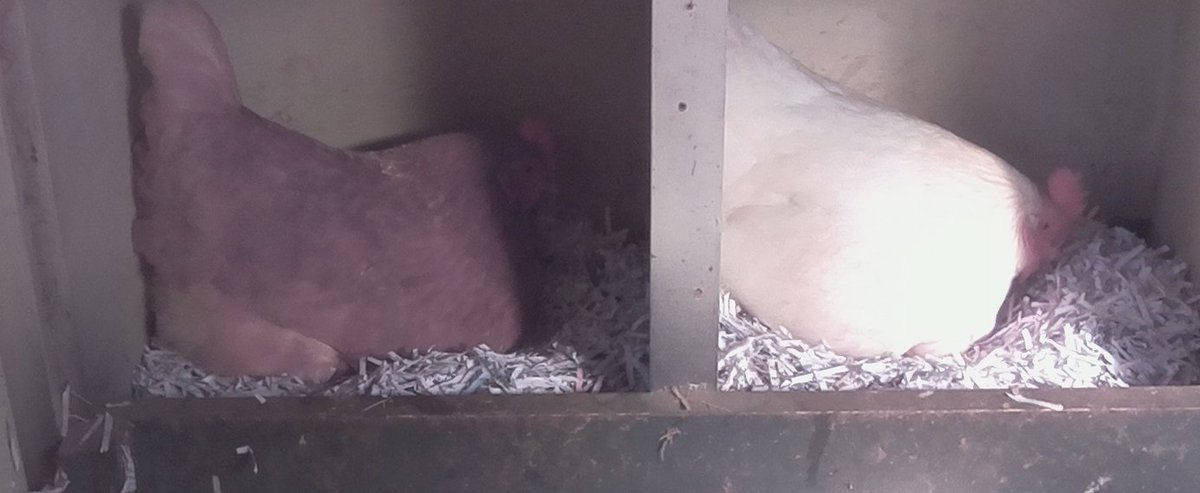hen: (128, 8, 568, 385), (727, 7, 1106, 364)
